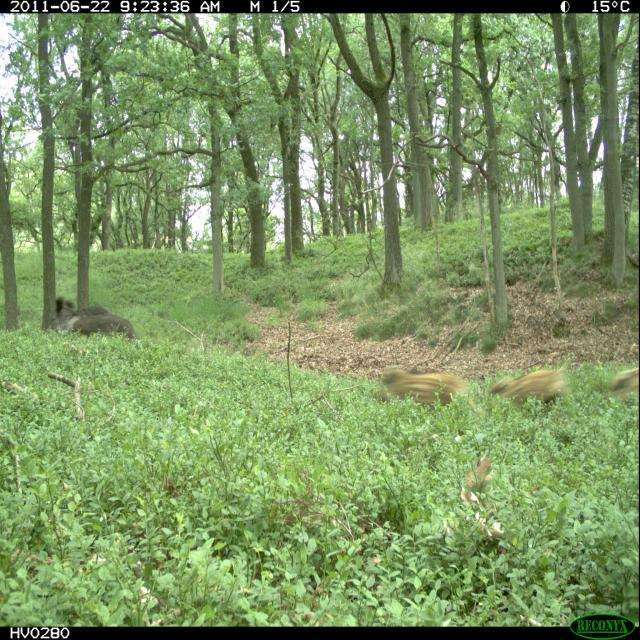boar: (364, 340, 478, 438), (480, 352, 570, 431), (68, 300, 146, 369), (589, 342, 640, 440)
